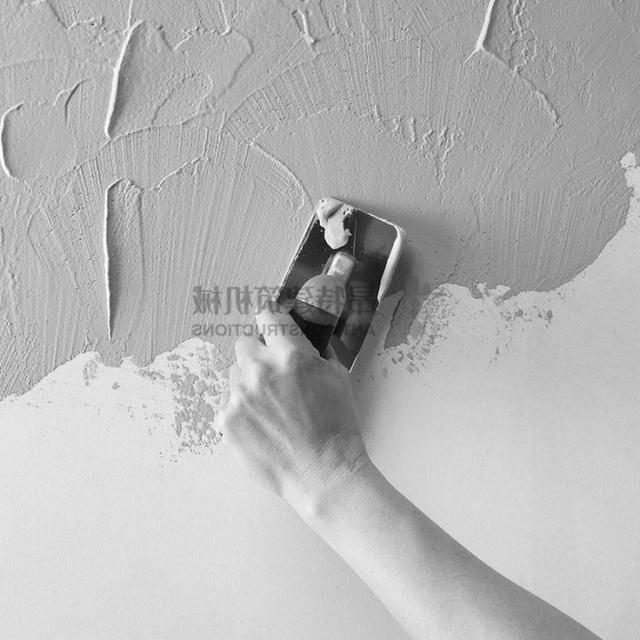trowels marks: (0, 0, 640, 287), (0, 158, 228, 394)
